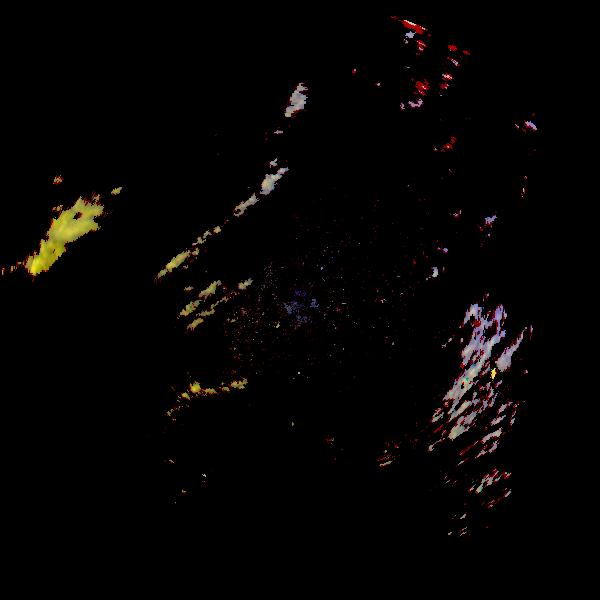roost: (290, 422, 296, 428)
